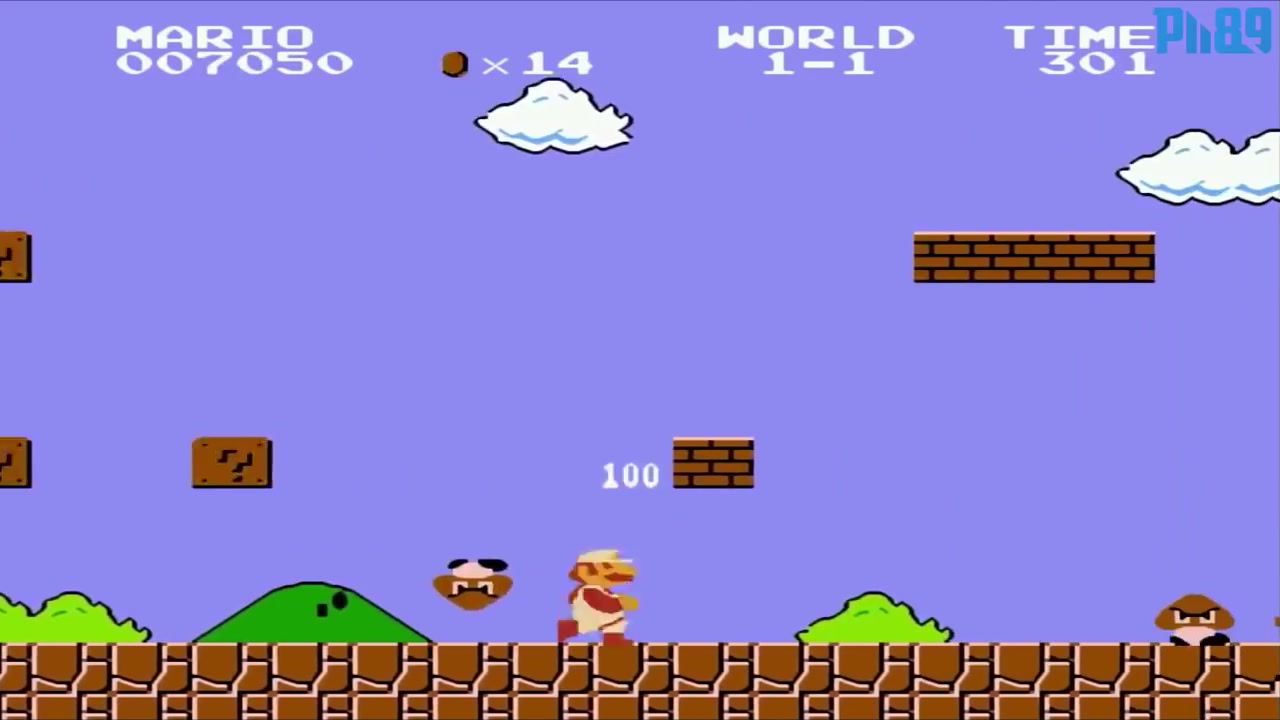mario: (548, 541, 641, 644)
